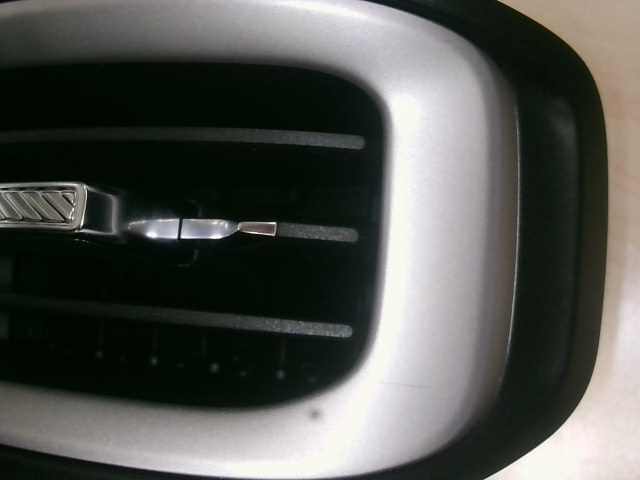NG: (374, 364, 453, 417)
